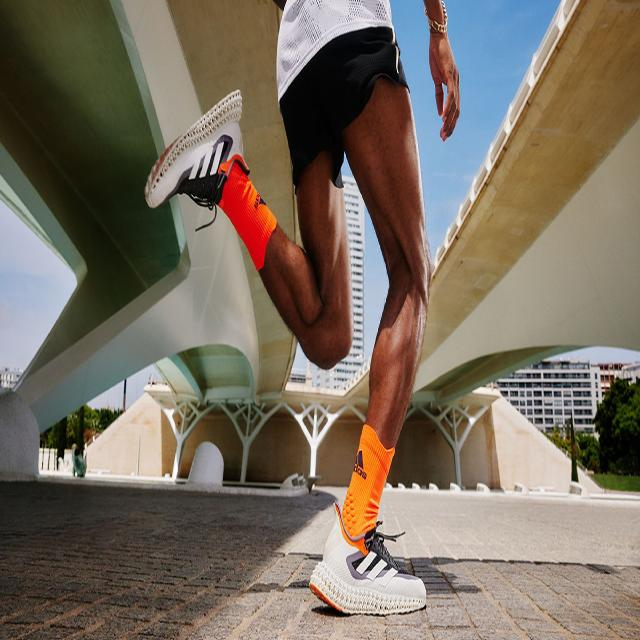adidas logo: (338, 544, 408, 596), (186, 128, 233, 191)
sock logo: (217, 167, 278, 273), (341, 425, 396, 536)
